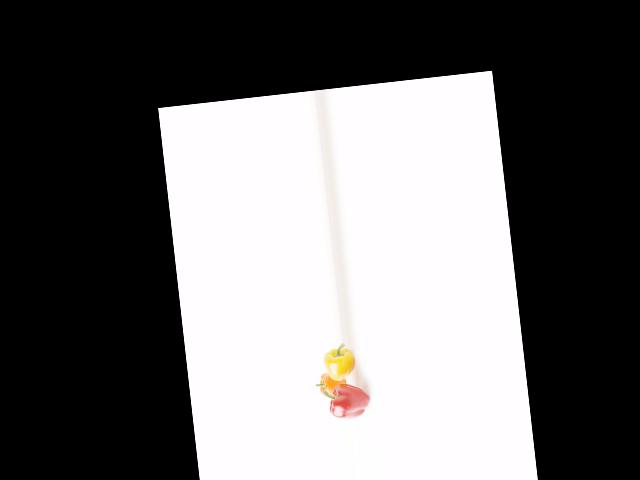bell_pepper: (318, 379, 375, 422)
